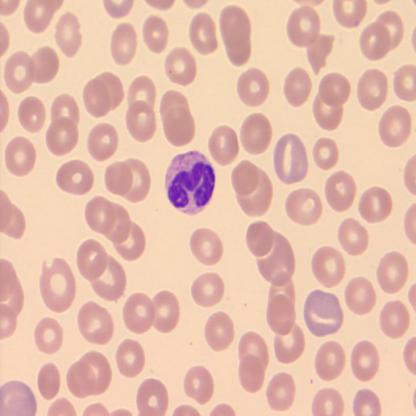Band Neutrophil: (161, 146, 219, 219)
